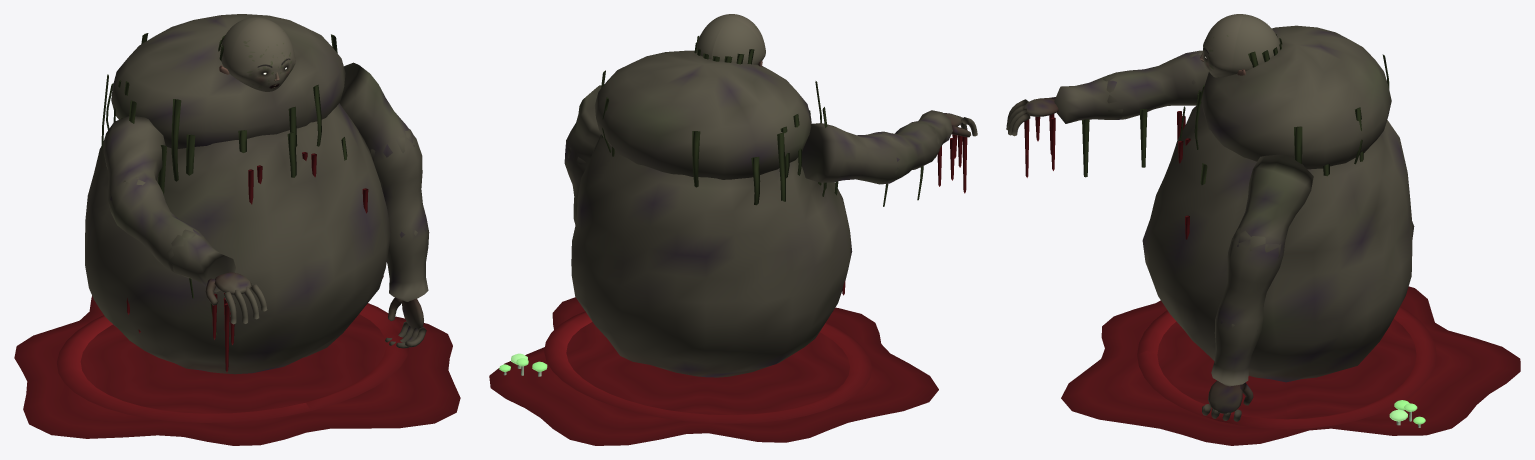
File: drowner.glb
The picture shows the model from 3 angles, left to right: view 1: azimuth 30°, elevation 25°; view 2: azimuth 150°, elevation 25°; view 3: azimuth 270°, elevation 25°; orthographic projection. The views are drawn at different scales.
Parts seen in each view (by area): view 1: drowner-body, drowner-metal, drowner-face; view 2: drowner-body, drowner-metal, drowner-face; view 3: drowner-body, drowner-metal, drowner-face.
Part boxes in pixels (x1=…): drowner-body: x1=85, y1=14, x2=429, y2=374; drowner-metal: x1=14, y1=152, x2=460, y2=445; drowner-face: x1=220, y1=17, x2=295, y2=91; drowner-body: x1=503, y1=36, x2=977, y2=377; drowner-metal: x1=489, y1=129, x2=967, y2=445; drowner-face: x1=696, y1=14, x2=765, y2=64; drowner-body: x1=1006, y1=25, x2=1420, y2=427; drowner-metal: x1=1024, y1=111, x2=1520, y2=445; drowner-face: x1=1203, y1=14, x2=1279, y2=77.
Size of the model in its own units: 0.9495 by 0.798 by 1.08.
4 materials, 1 textured.
